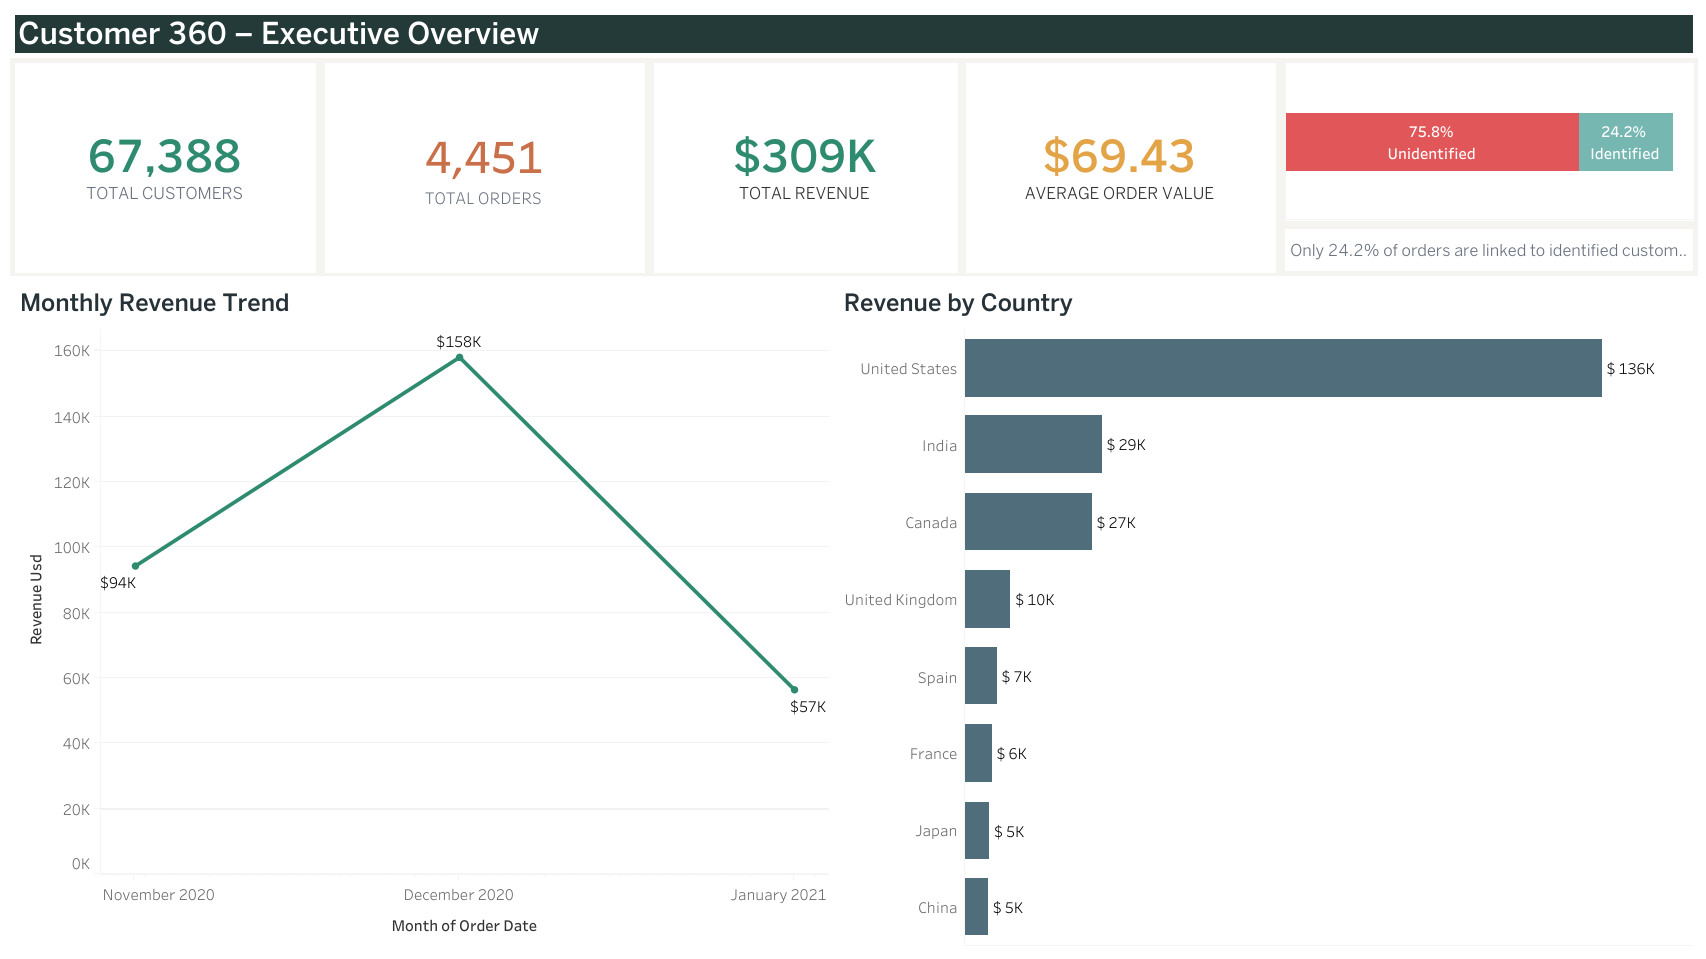

What the dashboard file says about the page in this screenshot:
{"tool":"tableau","page":{"name":"Executive Overview","canvas":[1366,768],"ordinal":2},"visuals":[{"type":"title","box":[8,8,1350,44]},{"type":"worksheet","title":"KPI - Total Customers","mark":"Automatic","box":[8,52,248,169]},{"type":"worksheet","title":"KPI - Total Orders","mark":"Automatic","box":[256,52,263,169]},{"type":"worksheet","title":"KPI - Total Revenue","mark":"Automatic","box":[519,52,250,169]},{"type":"worksheet","title":"KPI - Average Order Value","mark":"Automatic","box":[769,52,255,169]},{"type":"worksheet","title":"Breakdown - Order Identification","mark":"Automatic","cols":["order_id"],"box":[1024,52,334,117]},{"type":"text","box":[1024,169,334,52]},{"type":"worksheet","title":"Trend - Monthly Revenue","mark":"Automatic","rows":["revenue_usd"],"cols":["order_date"],"box":[8,221,654,539]},{"type":"worksheet","title":"Bar - Revenue by Country","mark":"Automatic","rows":["country"],"cols":["revenue_usd"],"box":[662,221,696,539]}]}

Visuals, with their boxes in screenshot pixels (x1, y1, x2, y2), scaled from the page's 1366x768 canvas onto the 1706x959 screenshot:
title: bbox(10, 10, 1696, 65)
"KPI - Total Customers" worksheet: bbox(10, 65, 320, 276)
"KPI - Total Orders" worksheet: bbox(320, 65, 648, 276)
"KPI - Total Revenue" worksheet: bbox(648, 65, 960, 276)
"KPI - Average Order Value" worksheet: bbox(960, 65, 1279, 276)
"Breakdown - Order Identification" worksheet: bbox(1279, 65, 1696, 211)
text: bbox(1279, 211, 1696, 276)
"Trend - Monthly Revenue" worksheet: bbox(10, 276, 827, 949)
"Bar - Revenue by Country" worksheet: bbox(827, 276, 1696, 949)
